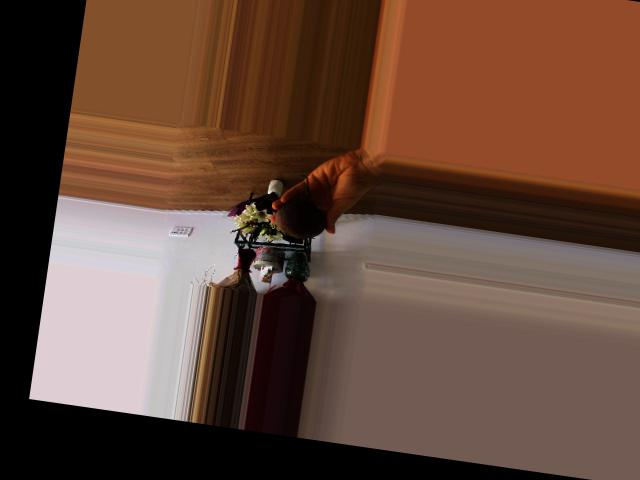beet: (271, 171, 331, 246)
